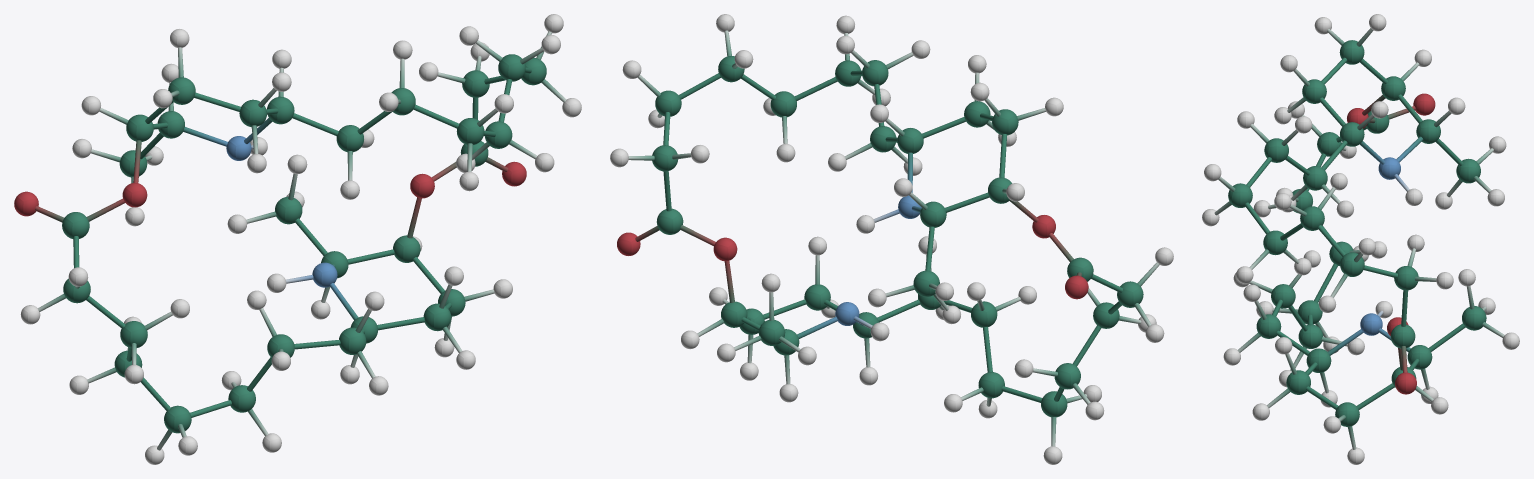
File: Carpaine.fbx
3 views of the same model, side by side, from view 1: azimuth 30°, elevation 25°; view 2: azimuth 150°, elevation 25°; view 3: azimuth 270°, elevation 25° (orthographic). The views are drawn at different scales.
Visible parts, largest first — view 1: curMeshHyperballExportedMesh; view 2: curMeshHyperballExportedMesh; view 3: curMeshHyperballExportedMesh.
Boxes of the visible parts, x1=… form: curMeshHyperballExportedMesh: x1=14, y1=14, x2=581, y2=464; curMeshHyperballExportedMesh: x1=610, y1=14, x2=1173, y2=464; curMeshHyperballExportedMesh: x1=1202, y1=14, x2=1519, y2=464.
Bounding box in the file's own units: 13.02 × 9.1 × 7.27.
